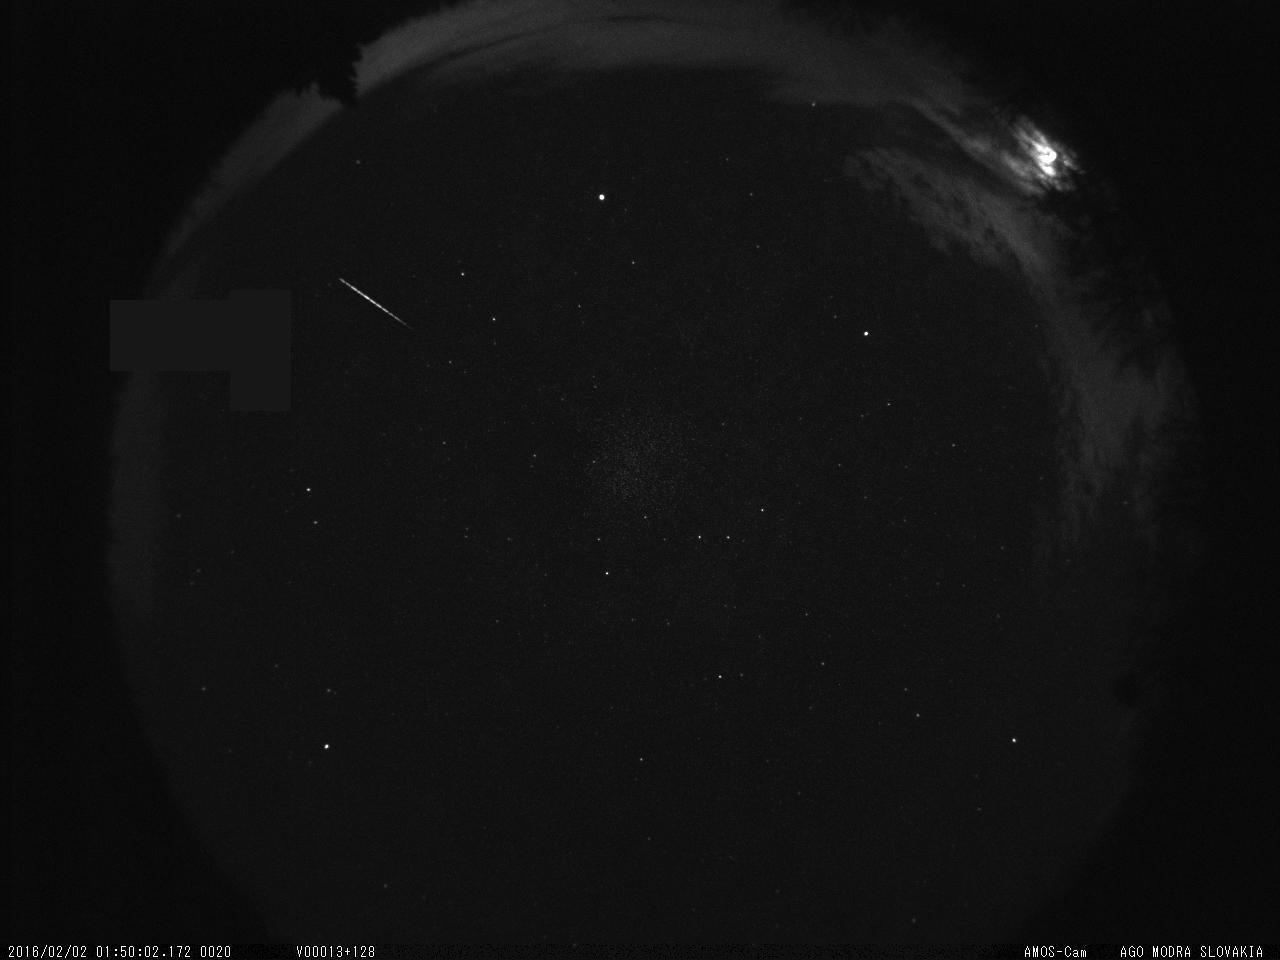meteor: (332, 269, 428, 344)
